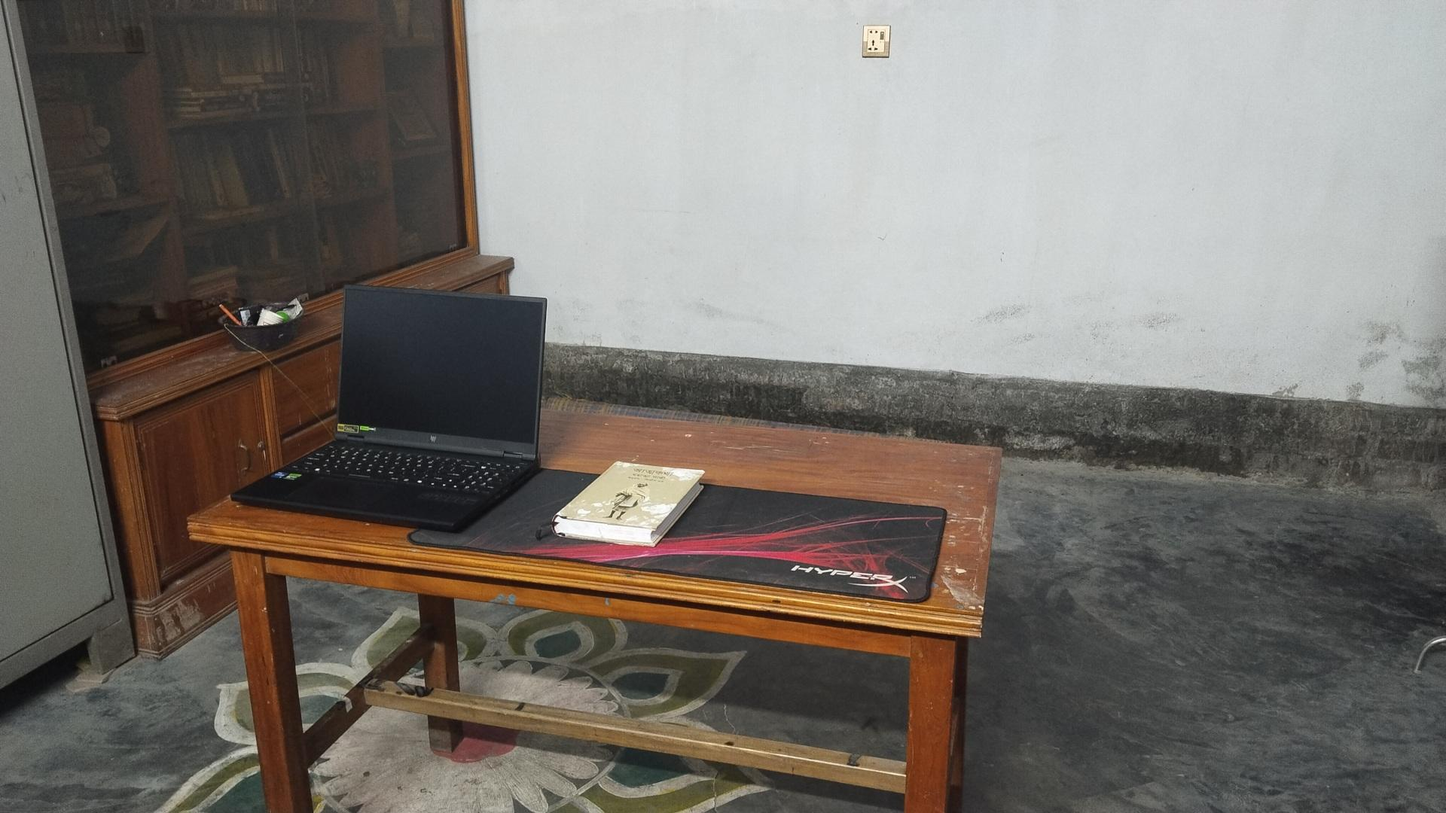Book: (559, 449, 714, 550)
Laptop: (230, 285, 546, 523)
Table: (194, 373, 996, 813)
